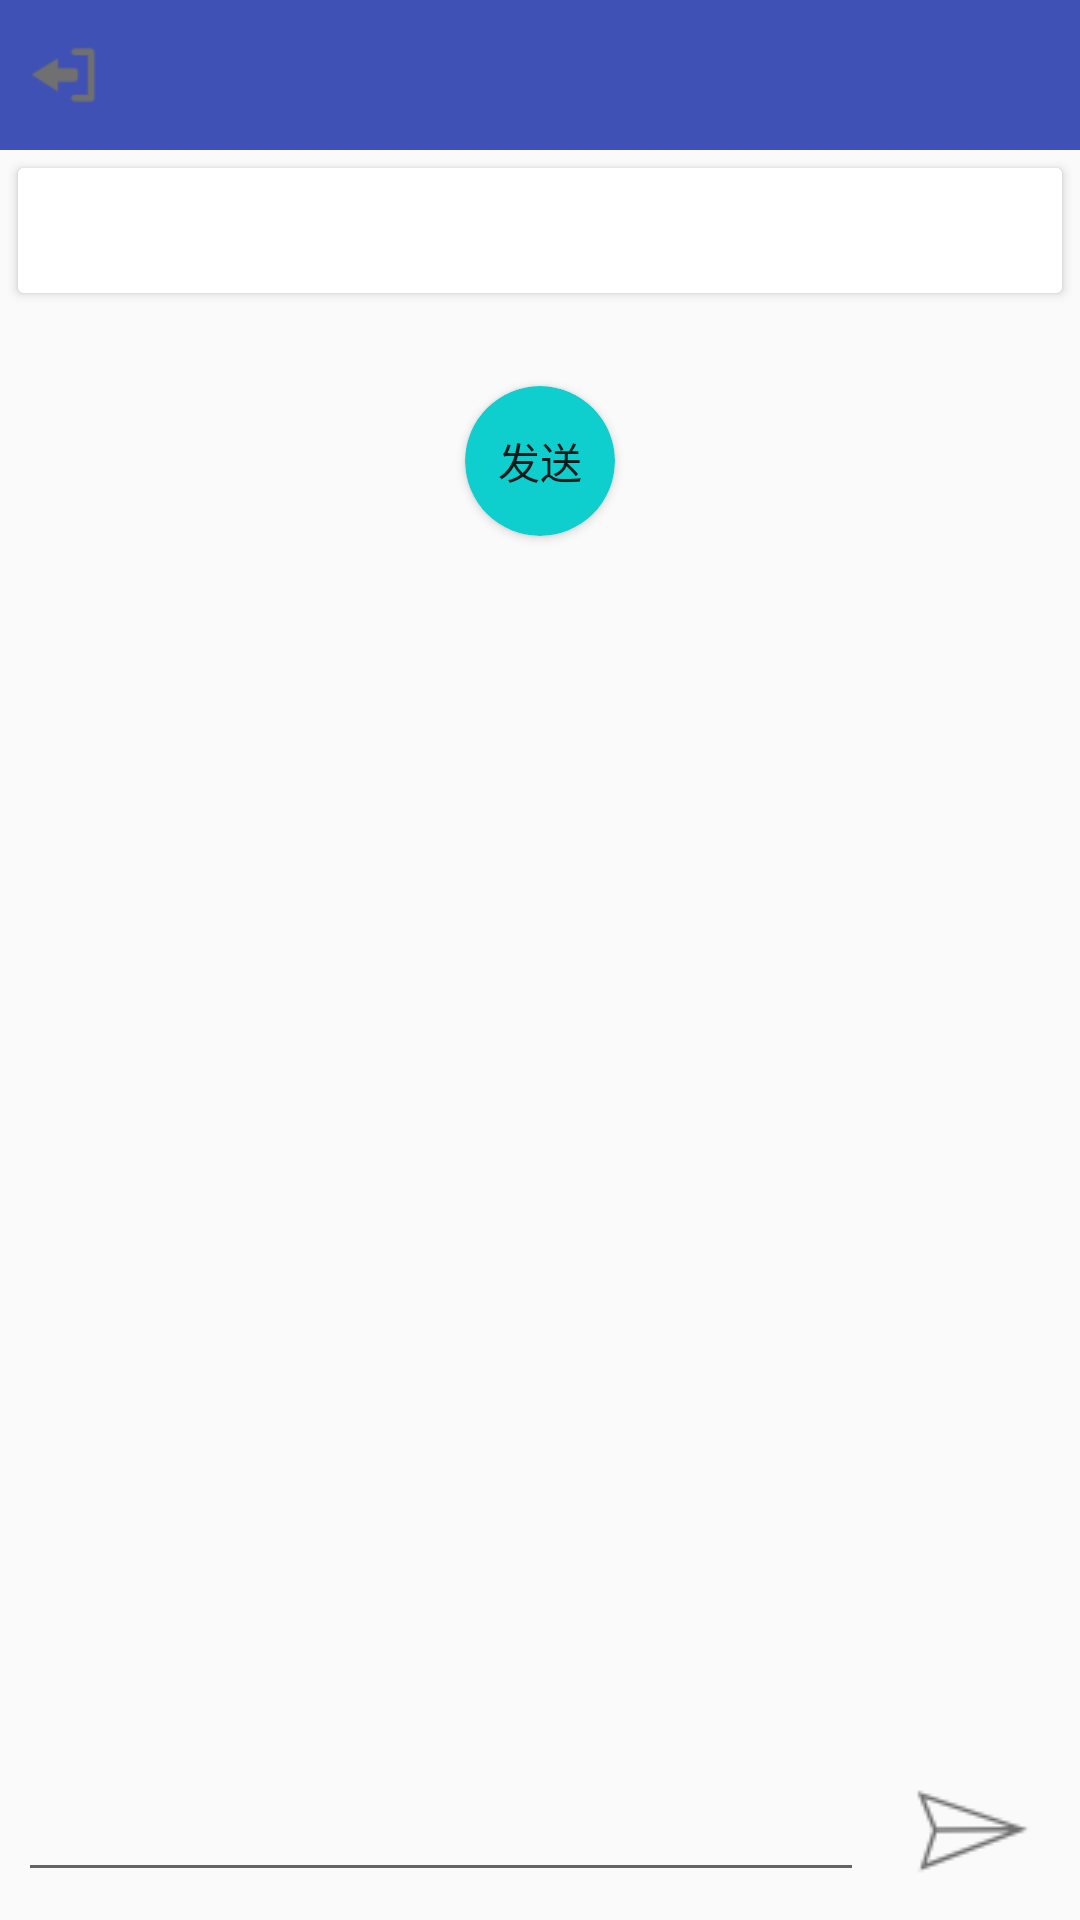

Point at icon controls on the screen. Image size 1080 × 1920, points as (x,y).
exit: (63,75)
send: (972,1830)
